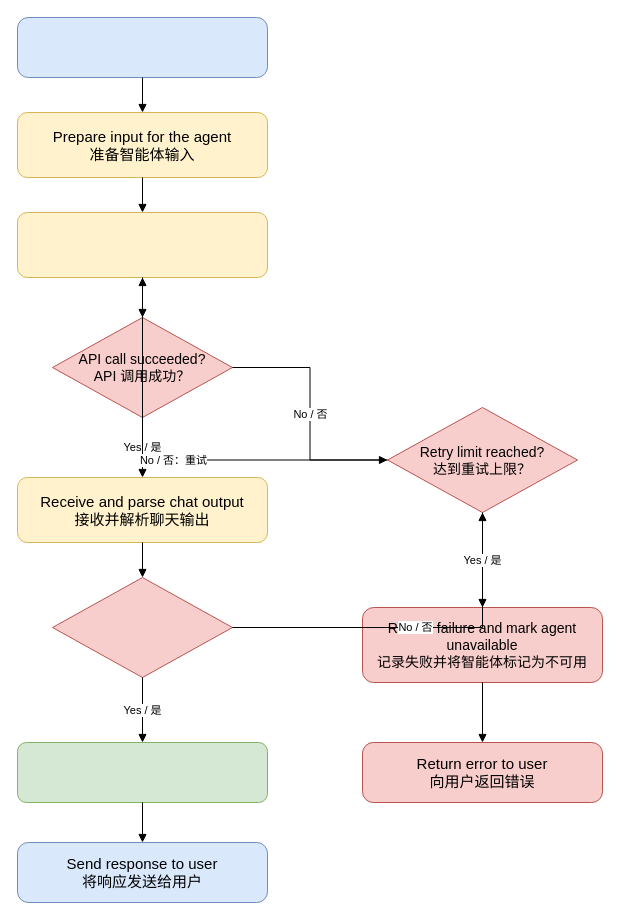
Image size: 620x920. Some labels were removed from this diagram. Each missing label, with the centre of its shape:
Chat output valid? 聊天输出有效？: pixel 142 627
New request input 新请求输入: pixel 142 47
Record success 记录成功: pixel 142 772
Send input to Agent API 将输入发送到智能体 API: pixel 142 245
